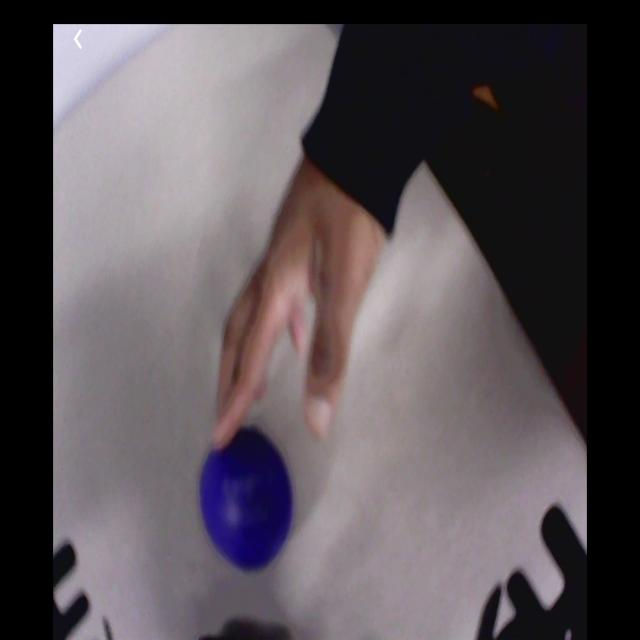ball: (202, 427, 292, 567)
